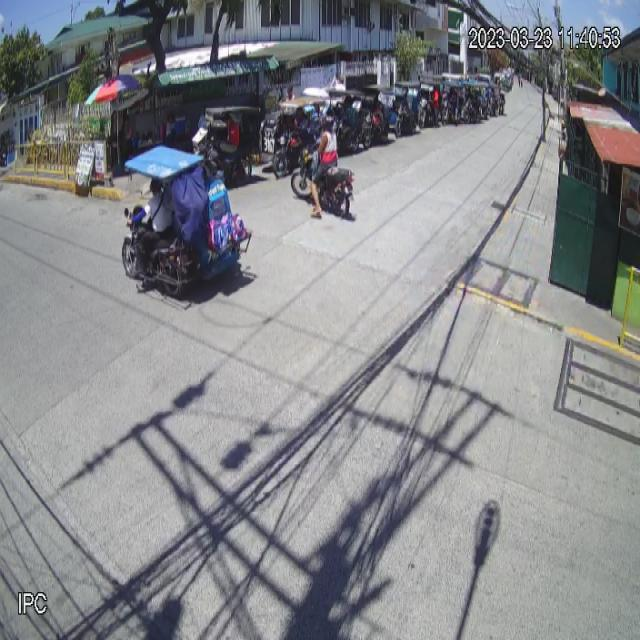Motorcycle: (290, 142, 356, 221)
Tricycle: (122, 144, 254, 301)
